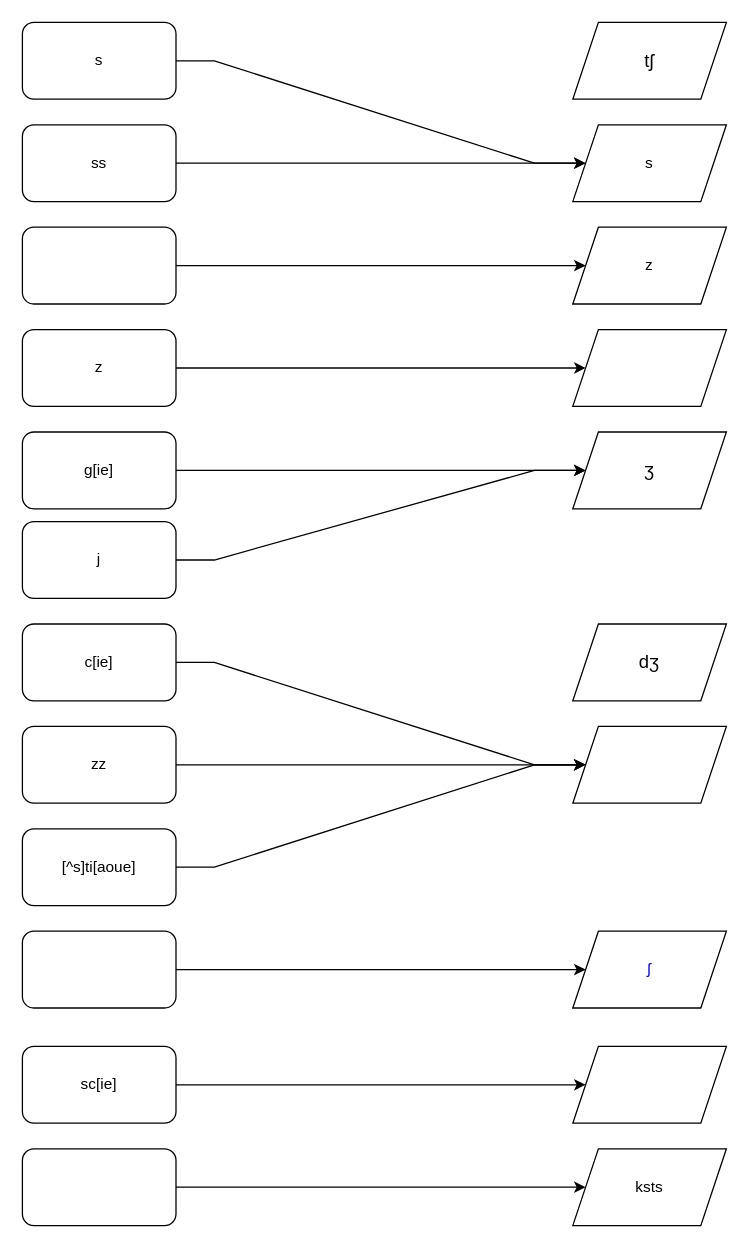
The diagram is 749 pixels wide and 1248 high, and some of its shapes have lost their labels. Here are the shapes that lost their labels. From the top down, the box of each, then its label:
(21, 226, 176, 304): [aeiou]s[aeiou]
(572, 328, 726, 406): dz
(572, 725, 726, 803): ts
(21, 930, 176, 1008): ch
(572, 1045, 726, 1123): sts
(21, 1148, 176, 1226): xc[ie]
